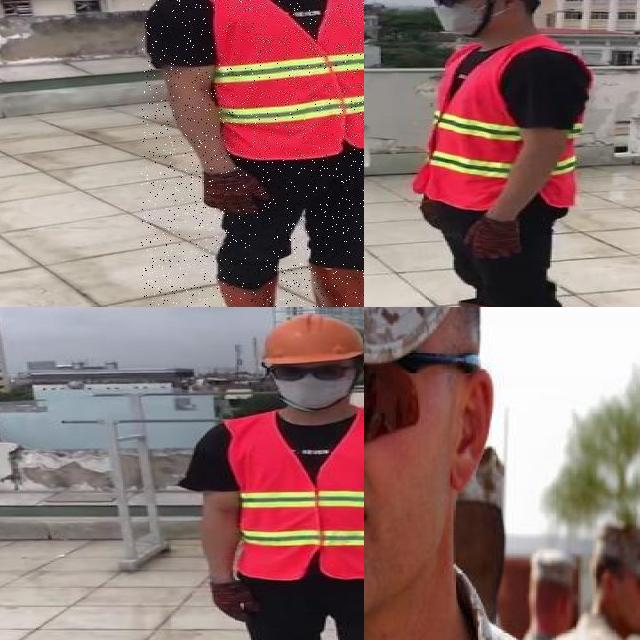No_Ear-Protection: (444, 366, 496, 492)
boots: (216, 275, 304, 307), (312, 264, 364, 307)
face_mask: (271, 358, 357, 408), (432, 0, 494, 37)
face_nomask: (364, 346, 436, 563)
glasses: (364, 325, 469, 465), (262, 361, 360, 384), (423, 0, 485, 16)
hand_glove: (459, 218, 520, 258), (210, 582, 256, 624)
head_helmet: (255, 312, 364, 366)
head_nohelmet: (364, 307, 495, 349), (597, 512, 640, 574)
person: (364, 307, 640, 640), (390, 0, 623, 307), (141, 0, 364, 307), (185, 308, 364, 640), (559, 514, 640, 640)
vest: (420, 41, 587, 213), (209, 0, 364, 160), (233, 410, 364, 582)
